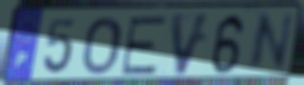5: (40, 17, 80, 76)
6: (211, 12, 247, 76)
E: (118, 15, 169, 77)
N: (244, 11, 296, 75)
O: (80, 15, 123, 77)
V: (169, 11, 214, 79)
